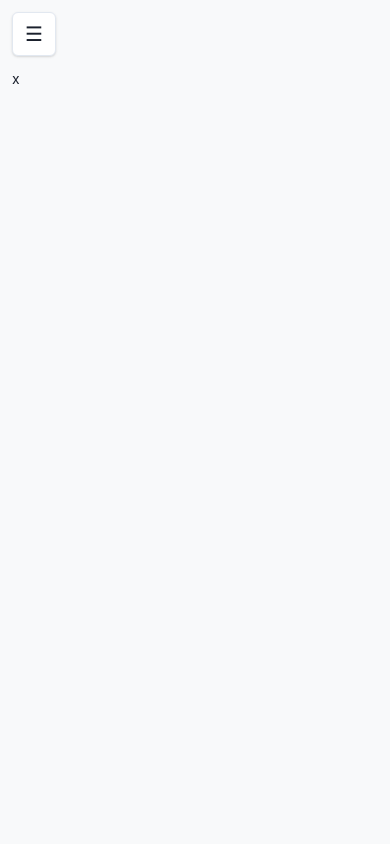
Layout › opens the sidebar from the mobile menu and closes on Escape
Click the button named "Open navigation menu": (34, 34) [12,12,56,56]
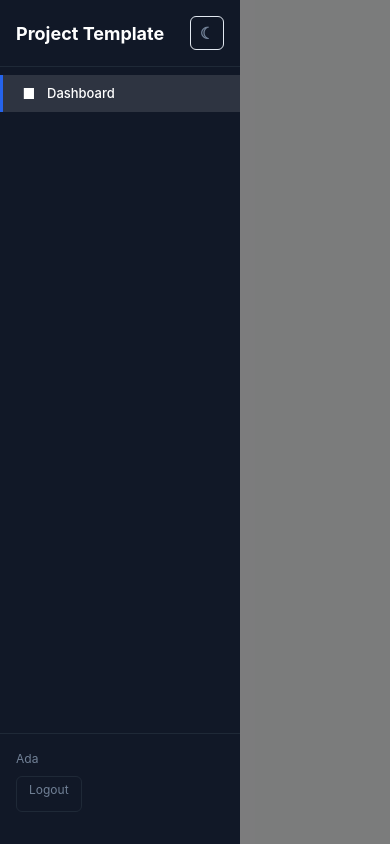
Expected: the button named "Open navigation menu" is expanded, [12,12,56,56]
Press Escape
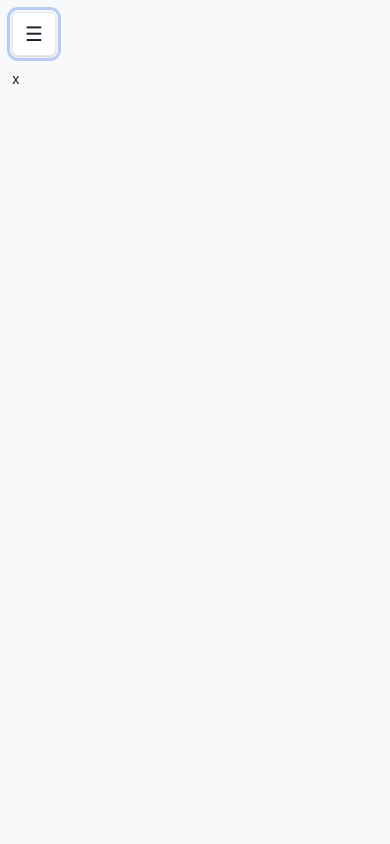
Expected: the button named "Open navigation menu" is collapsed, [12,12,56,56]
